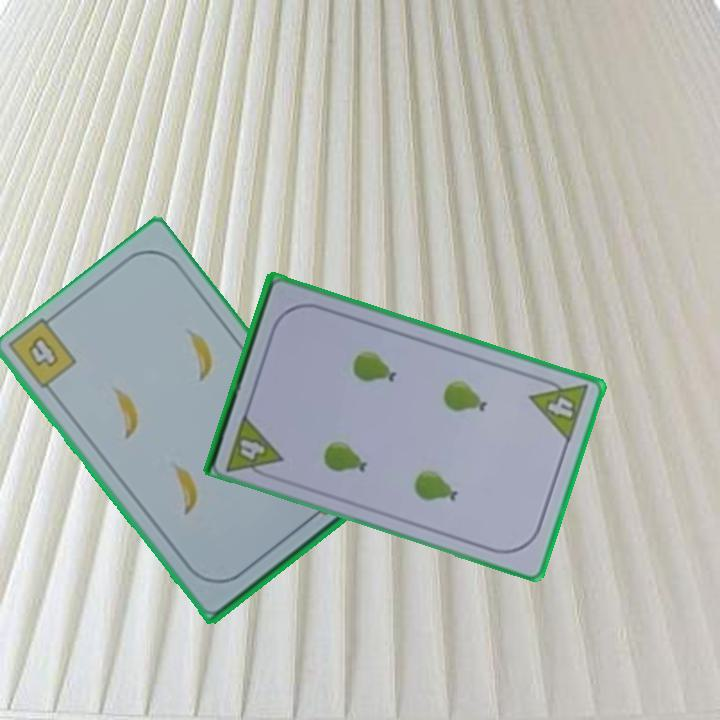4b: (23, 331, 62, 371)
4p: (526, 371, 591, 445), (223, 409, 285, 483)
